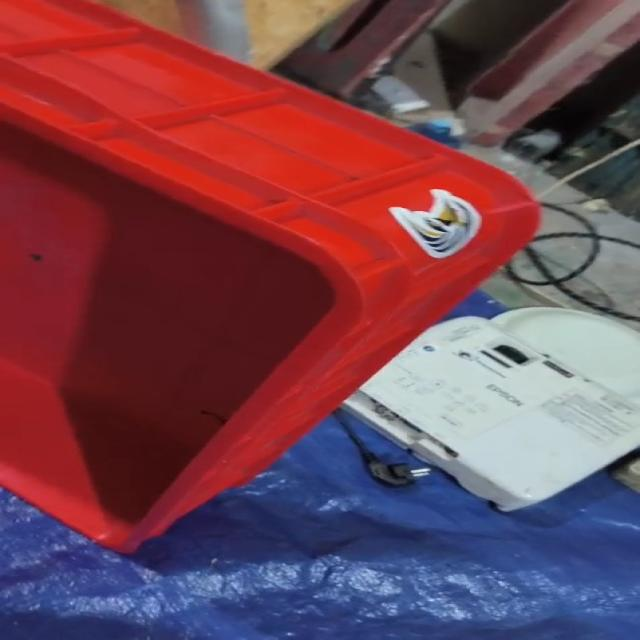red plastic box: (0, 0, 541, 554)
